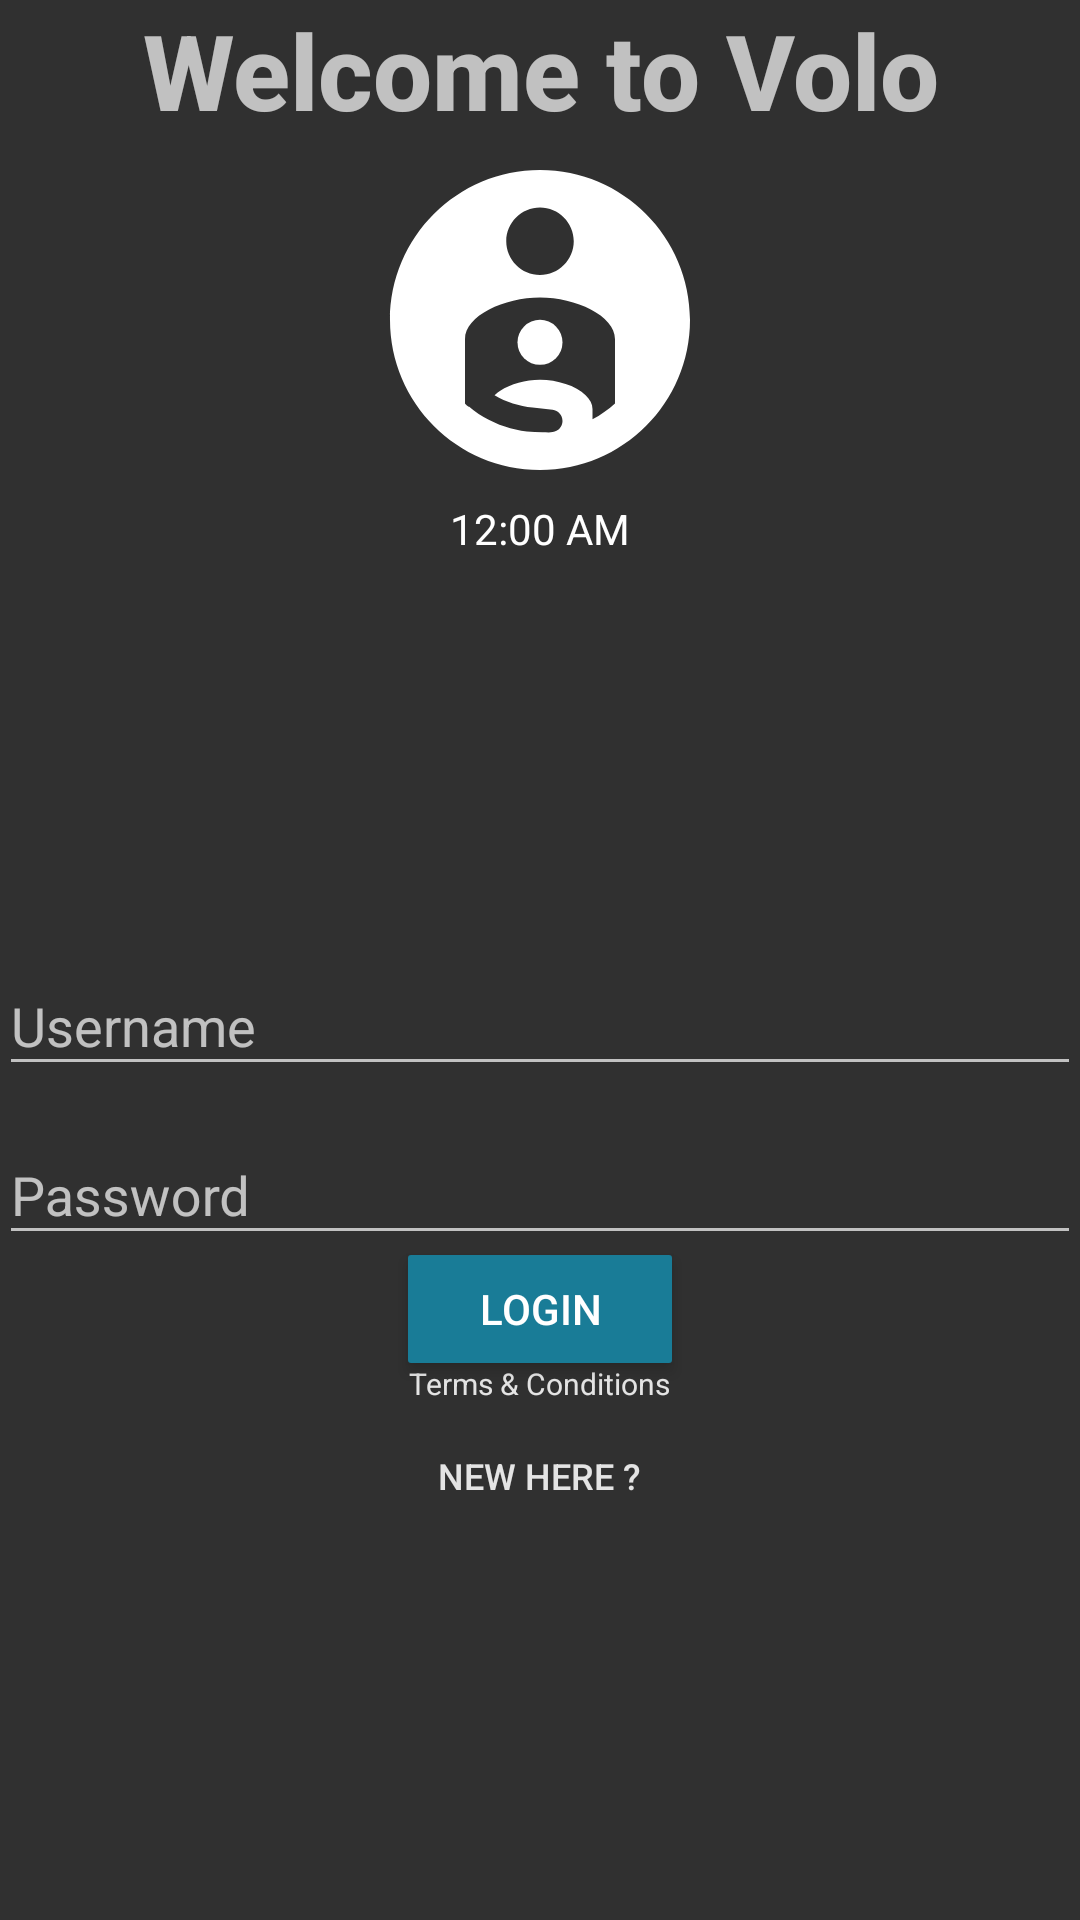

Where to tap for icons on this 1080w x 1920h app screen, as point (x, y):
account child: point (540, 320)
